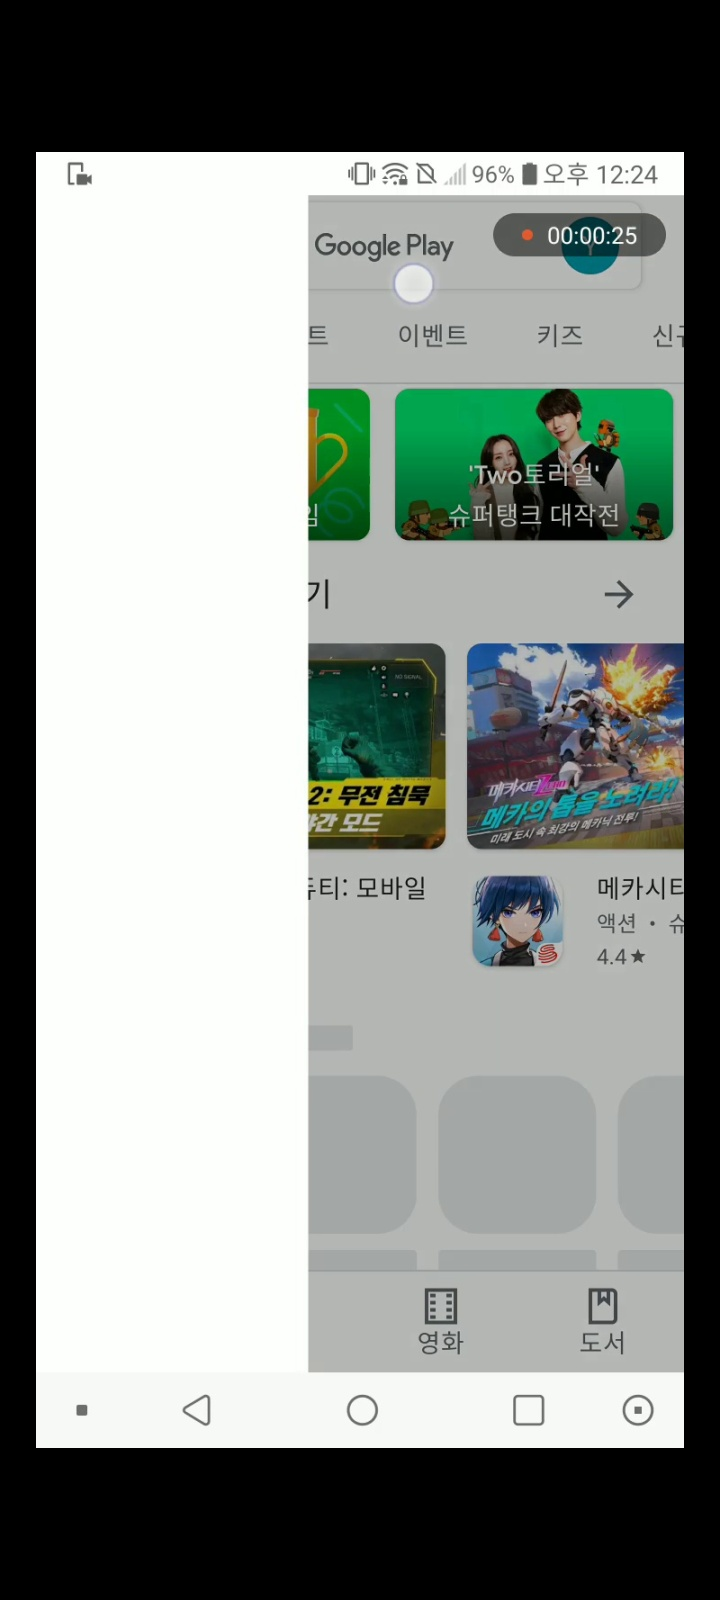Cursor: (394, 262, 439, 307)
